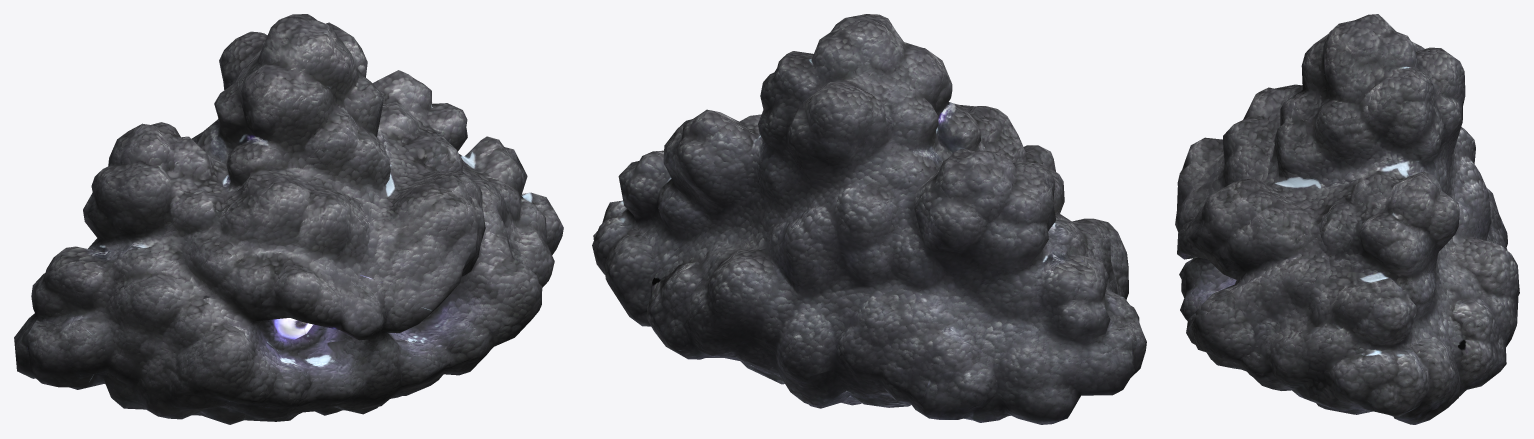
The model's file is Meshy_AI_Eye_of_the_Tempest_0607164211_texture.fbx.
3 renders of one model, left to right at view 1: azimuth 30°, elevation 25°; view 2: azimuth 150°, elevation 25°; view 3: azimuth 270°, elevation 25°, orthographic. The views are drawn at different scales.
Parts seen in each view (by area): view 1: Mesh1.0; view 2: Mesh1.0; view 3: Mesh1.0.
Boxes of the visible parts, <box> form: Mesh1.0: <box>14,14,563,424</box>; Mesh1.0: <box>592,14,1146,424</box>; Mesh1.0: <box>1175,14,1519,424</box>.
Bounding box in the file's own units: 191 × 127 × 112.
1 material, 1 textured.
